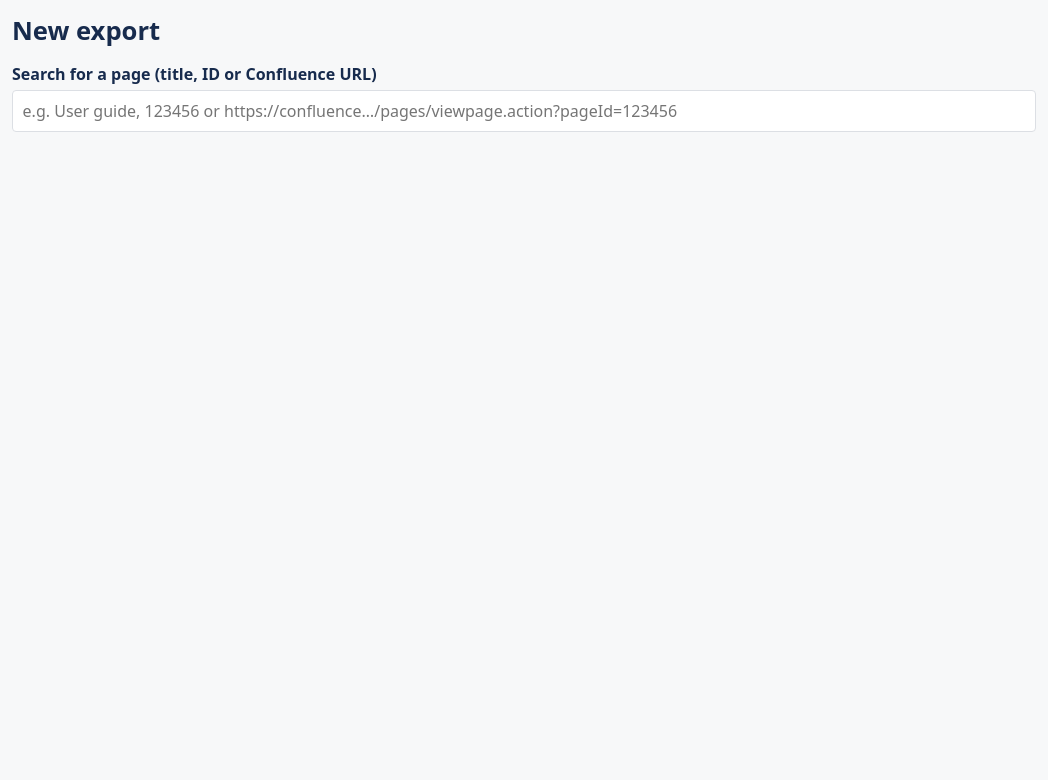
Test: NewExportPage › hides the classification when none is configured
In the search field labelled "Search for a page (title, ID or Confluence URL)": (524,111) [12,90,1036,132], type "guide"
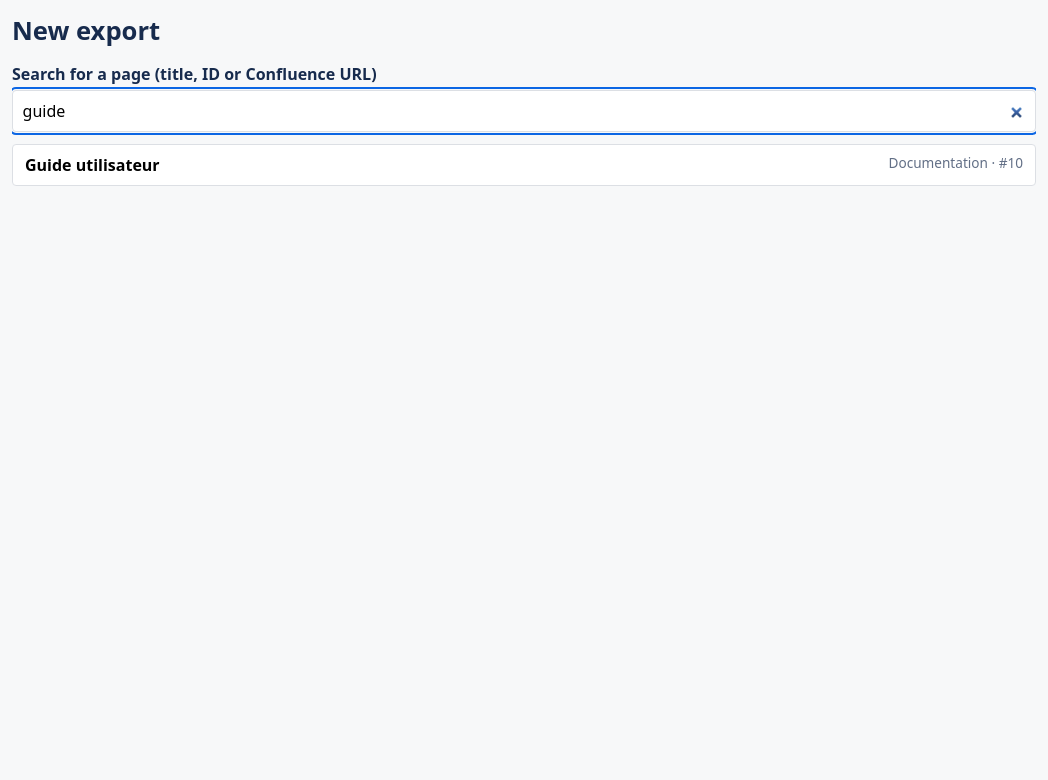
Click the button "Guide utilisateur Documentation · #10": (92,165) [12,144,1036,186]
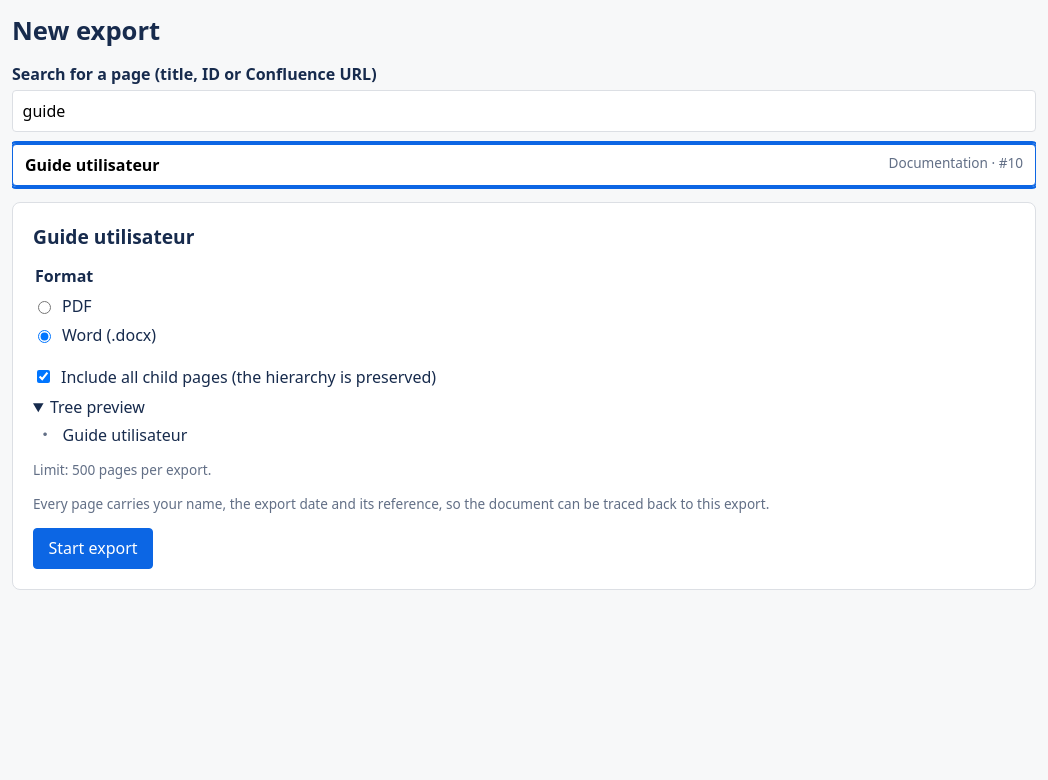
Expected: the button "Start export" is shown, [33,528,153,568]
